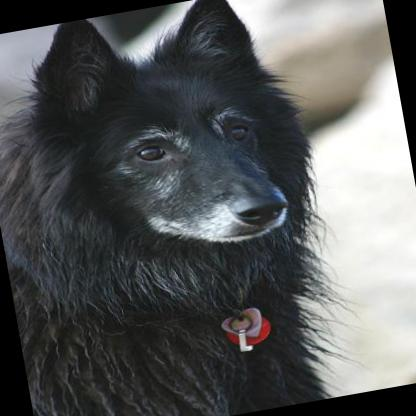groenendael: (0, 0, 375, 416)
